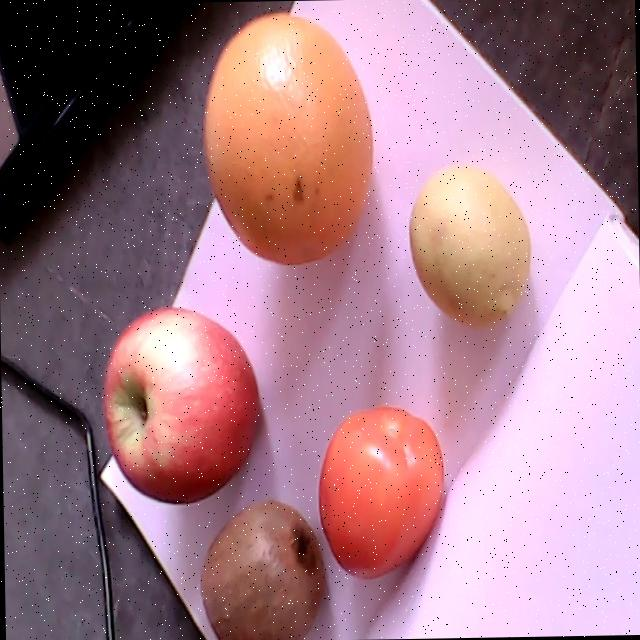apple: (102, 306, 260, 506)
kiwi: (200, 500, 327, 639)
lemon: (409, 162, 532, 327)
orange: (203, 12, 373, 265)
tomato: (319, 404, 445, 580)
